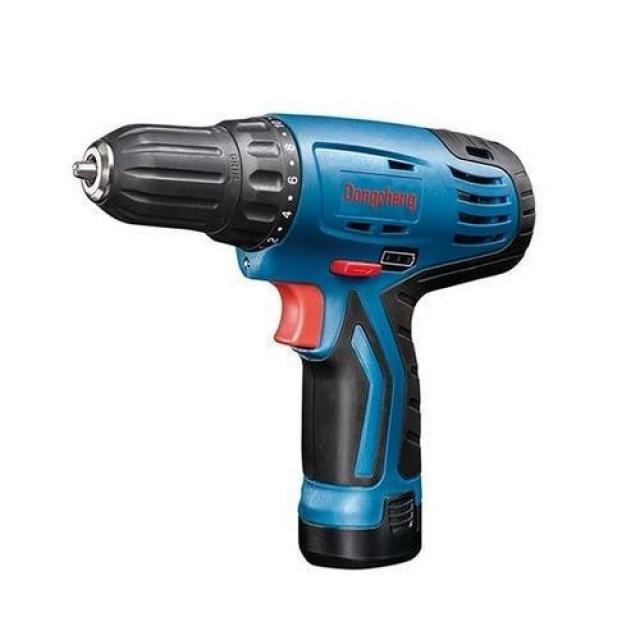drill: (72, 114, 537, 570)
